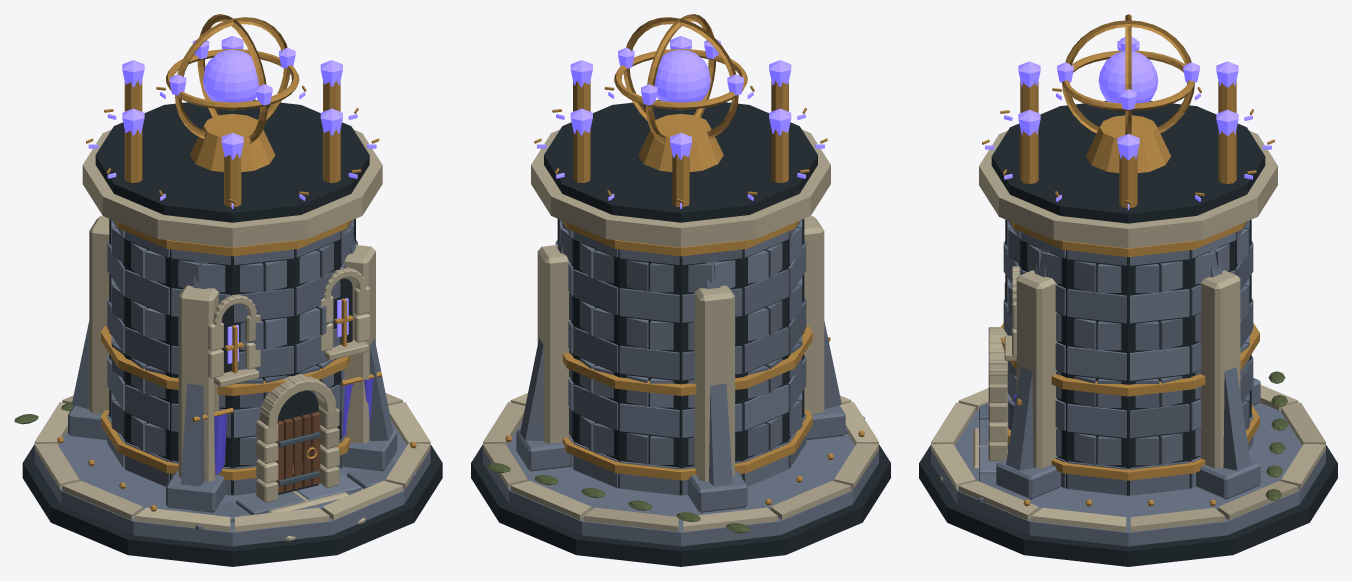
The model's file is mage__arcanista__L10.glb.
3 renders of one model, left to right at view 1: azimuth 30°, elevation 25°; view 2: azimuth 150°, elevation 25°; view 3: azimuth 270°, elevation 25°, orthographic.
Parts seen in each view (by area): view 1: structure, weapon, banners; view 2: structure, weapon; view 3: structure, weapon.
Part boxes in pixels (box(x1,y1,x2,y2)): structure: box(14, 36, 442, 566); weapon: box(166, 14, 299, 172); banners: box(192, 371, 381, 475); structure: box(471, 36, 890, 566); weapon: box(614, 14, 747, 171); structure: box(919, 40, 1337, 566); weapon: box(1057, 14, 1199, 172).
Bounding box in the file's own units: 0.8624 × 1.04 × 0.8624.
